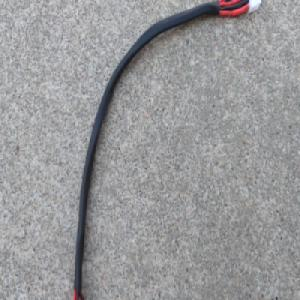Wire: (72, 0, 265, 300)
